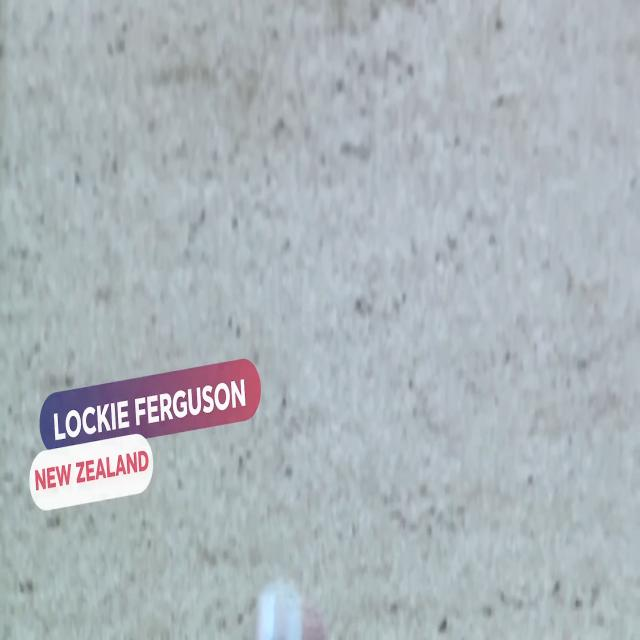ball: (248, 572, 307, 640)
